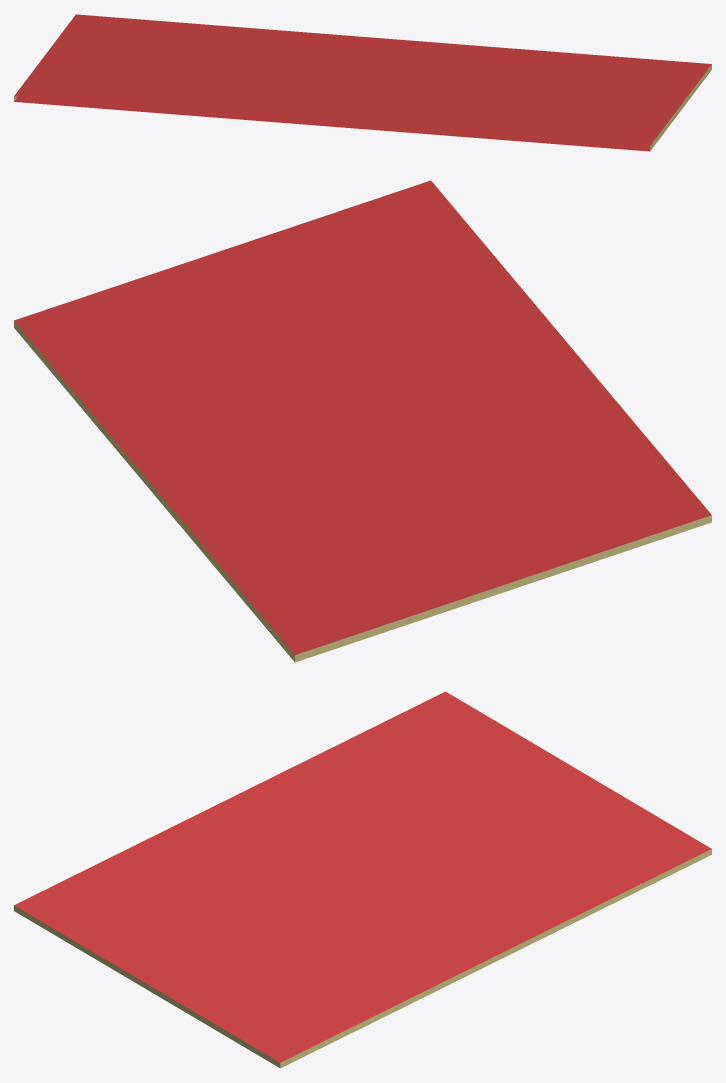
3 views of the same model, one above another, from view 1: azimuth 30°, elevation 25°; view 2: azimuth 150°, elevation 25°; view 3: azimuth 270°, elevation 25° (orthographic). The views are drawn at different scales.
Bounding box in the file's own units: 11.43 × 10.88 × 1.16.
